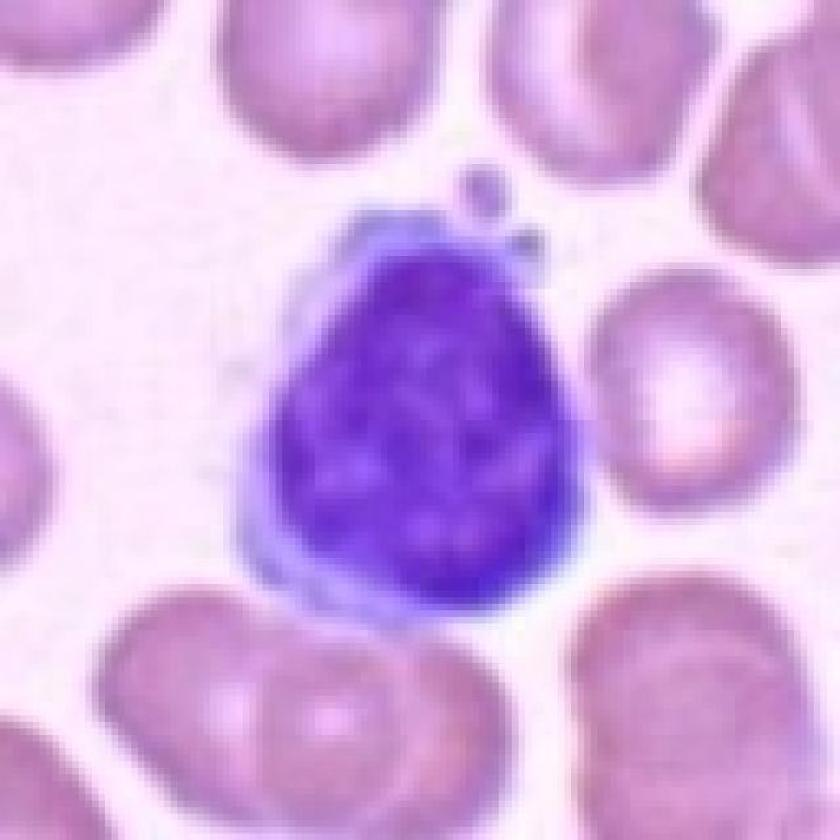lymphocyte: (219, 178, 598, 631)
